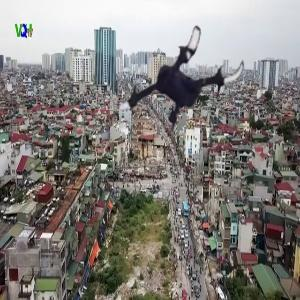drone: (111, 6, 249, 144)
